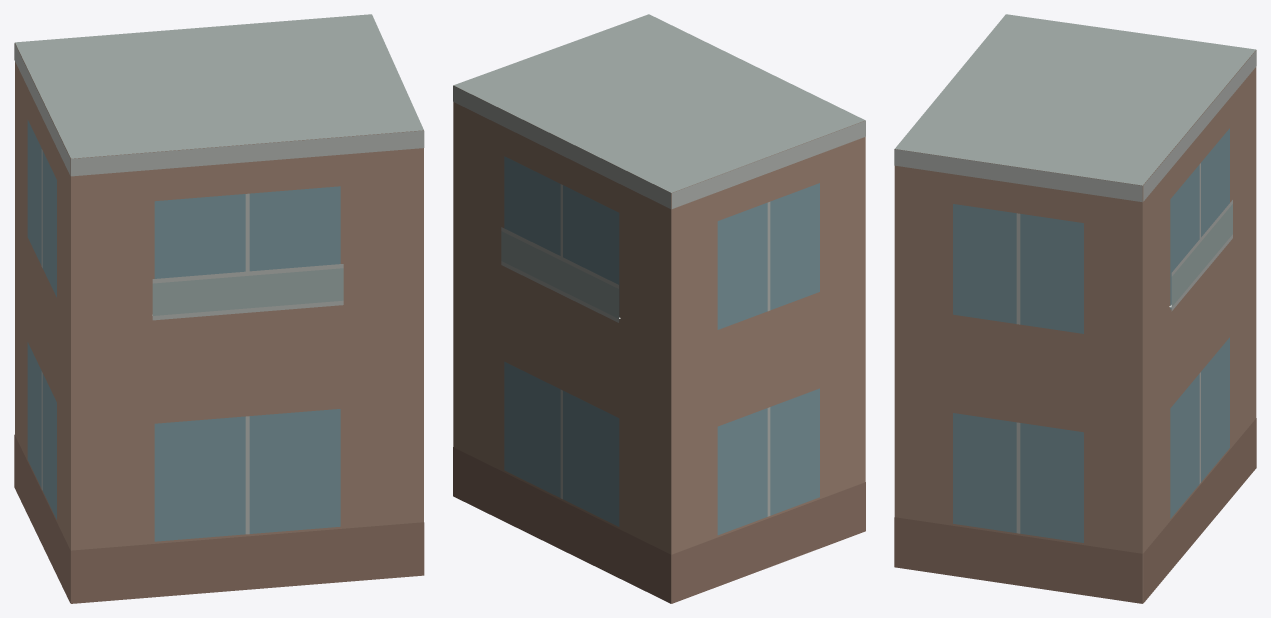
File: survey-upis-32668383.glb
The picture shows the model from 3 angles, left to right: view 1: azimuth 30°, elevation 25°; view 2: azimuth 150°, elevation 25°; view 3: azimuth 270°, elevation 25°; orthographic projection. The views are drawn at different scales.
Visible parts, largest first — view 1: survey-upis-32668383.tmp; view 2: survey-upis-32668383.tmp; view 3: survey-upis-32668383.tmp.
Part boxes in pixels (x1,y1,x2,y2): survey-upis-32668383.tmp: [14, 14, 424, 603]; survey-upis-32668383.tmp: [453, 14, 865, 603]; survey-upis-32668383.tmp: [894, 14, 1256, 603].
Size of the model in its own units: 5.37 by 6.1 by 4.79.
